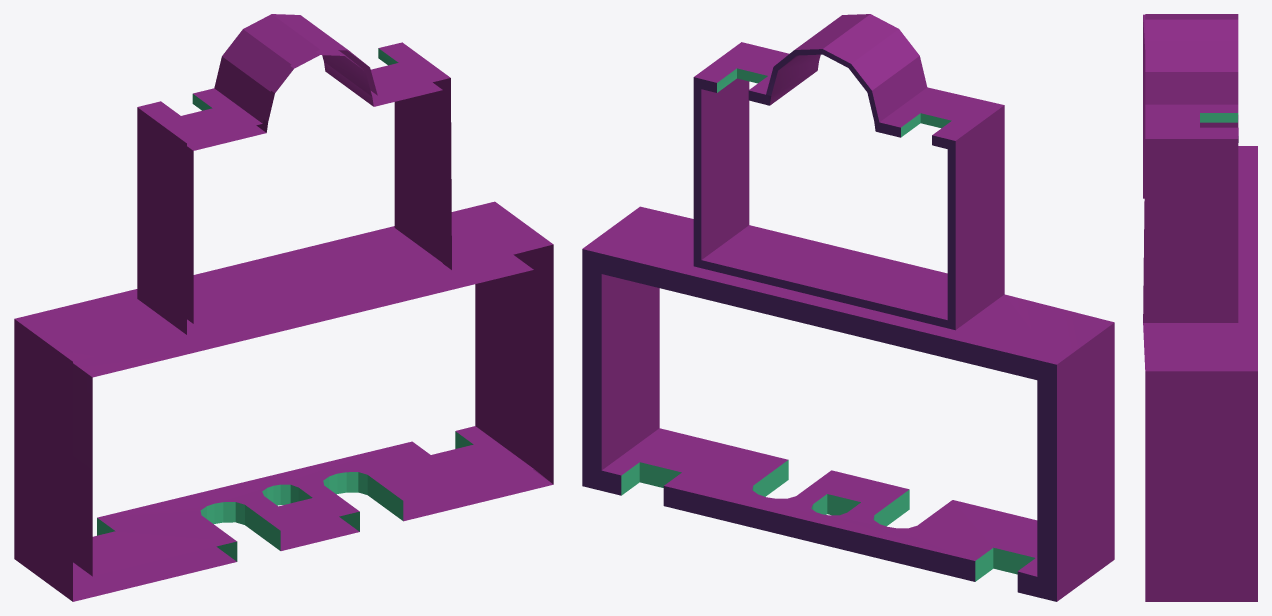
File: Łaźnia-Rogatka Lubelska Tier 1.fbx
The picture shows the model from 3 angles, left to right: view 1: azimuth 30°, elevation 25°; view 2: azimuth 150°, elevation 25°; view 3: azimuth 270°, elevation 25°; orthographic projection. The views are drawn at different scales.
Visible parts, largest first — view 1: Laznia_Rogatka_Lubelska_Laznia_cala_; view 2: Laznia_Rogatka_Lubelska_Laznia_cala_; view 3: Laznia_Rogatka_Lubelska_Laznia_cala_.
Part boxes in pixels (x1=…): Laznia_Rogatka_Lubelska_Laznia_cala_: x1=14, y1=14, x2=553, y2=601; Laznia_Rogatka_Lubelska_Laznia_cala_: x1=582, y1=14, x2=1114, y2=601; Laznia_Rogatka_Lubelska_Laznia_cala_: x1=1143, y1=14, x2=1257, y2=601.
Bounding box in the file's own units: 3.88 × 3.8 × 0.8357.
